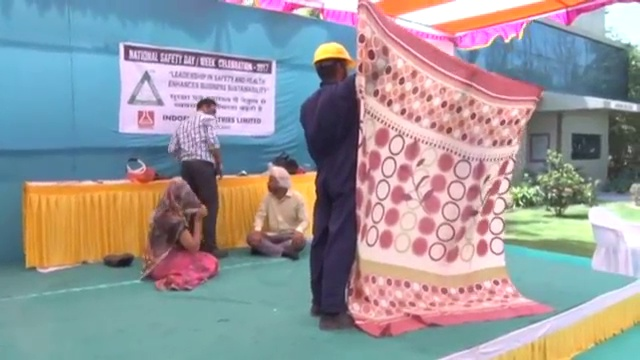helmet: (312, 41, 353, 69)
helmet_off: (166, 178, 195, 207), (264, 163, 289, 195), (196, 98, 220, 119)
helmet_on: (311, 40, 352, 83)
person: (298, 41, 359, 332), (170, 98, 229, 258), (145, 176, 216, 296), (246, 163, 308, 263)
